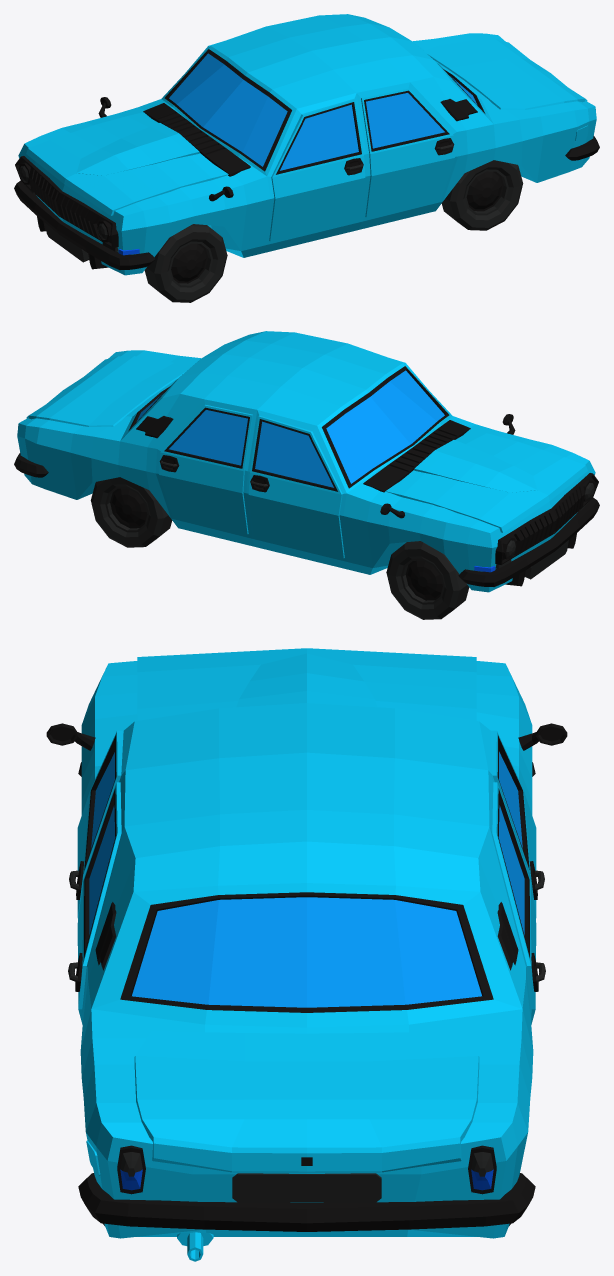
The model's file is carroazul.obj.
3 views of the same model, one above another, from view 1: azimuth 30°, elevation 25°; view 2: azimuth 150°, elevation 25°; view 3: azimuth 270°, elevation 25° (orthographic). The views are drawn at different scales.
Visible parts, largest first — view 1: CarroAzul; view 2: CarroAzul; view 3: CarroAzul.
Boxes of the visible parts, left/top/right/bottom form: CarroAzul: left=14, top=14, right=599, bottom=302; CarroAzul: left=14, top=331, right=599, bottom=619; CarroAzul: left=46, top=648, right=567, bottom=1261.
Bounding box in the file's own units: 22.01 × 7.33 × 9.9.
